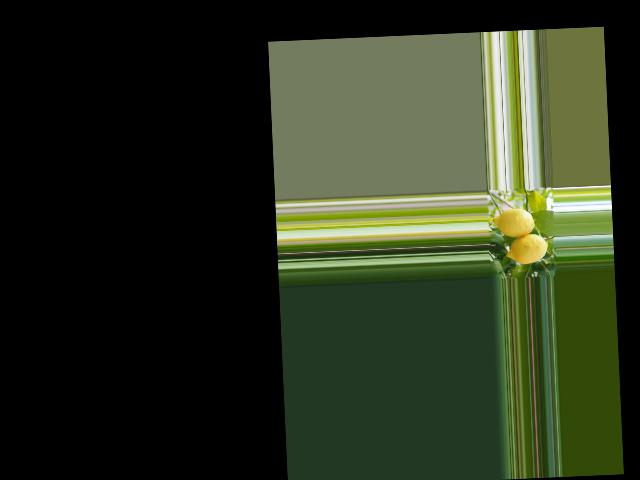lemon: (492, 204, 537, 239)
